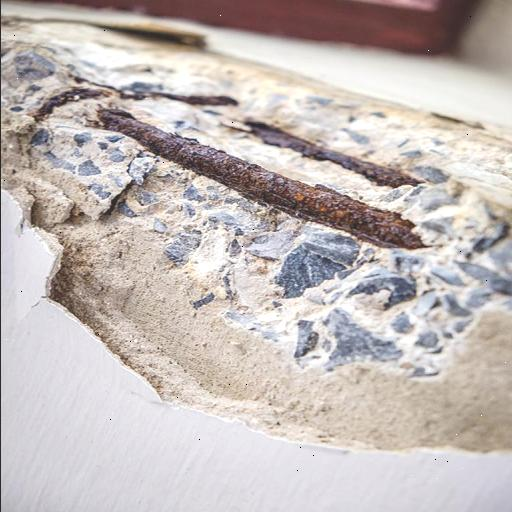spalling: (4, 20, 509, 447)
